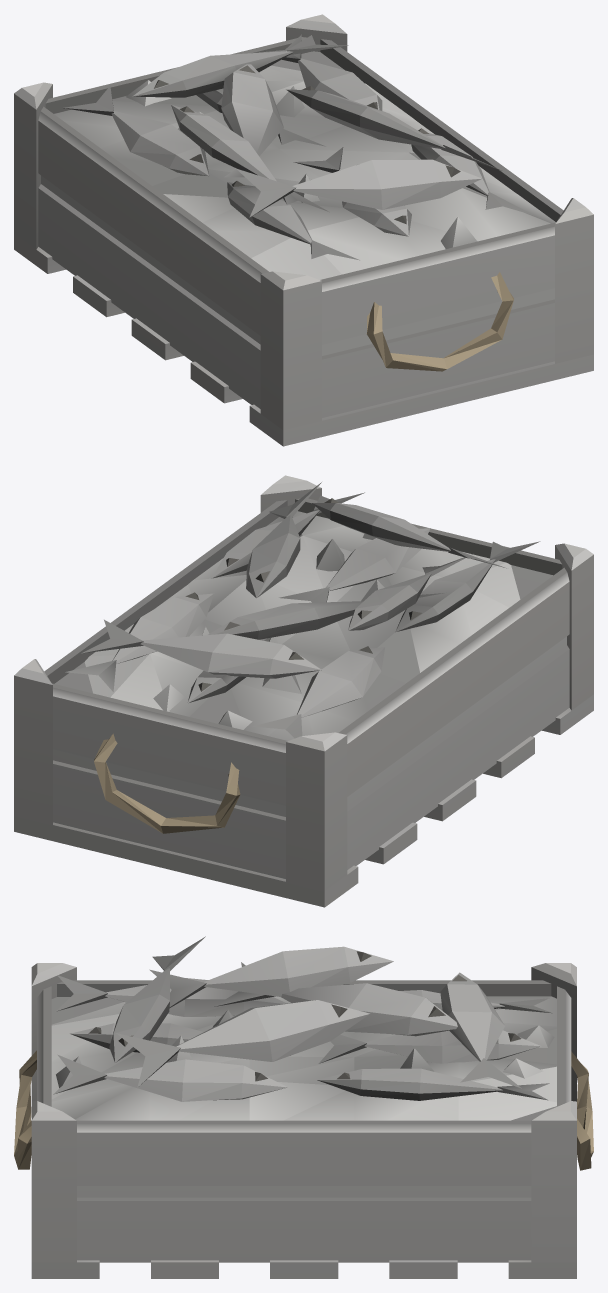
Rendered from fishcrate.glb.
3 renders of one model, top to bottom at view 1: azimuth 30°, elevation 25°; view 2: azimuth 150°, elevation 25°; view 3: azimuth 270°, elevation 25°, orthographic.
Visible parts, largest first — view 1: fishcrate; view 2: fishcrate; view 3: fishcrate.
Boxes of the visible parts, x1,y1,x2,y2 form: fishcrate: (14, 14, 593, 446); fishcrate: (14, 475, 593, 907); fishcrate: (14, 936, 593, 1278).
Size of the model in its own units: 0.4 by 0.2593 by 0.6382.
